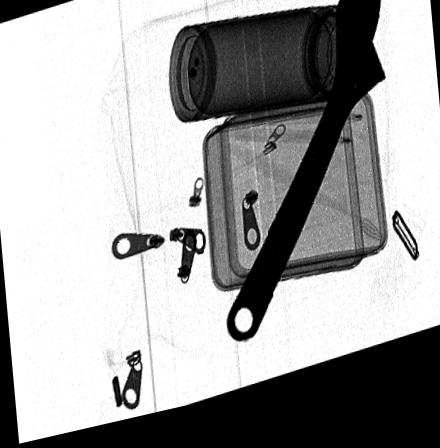Wrench: (224, 0, 389, 355)
